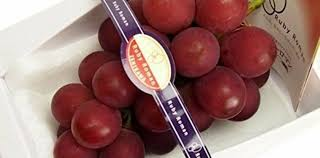Red Grapes: (52, 2, 275, 157)
